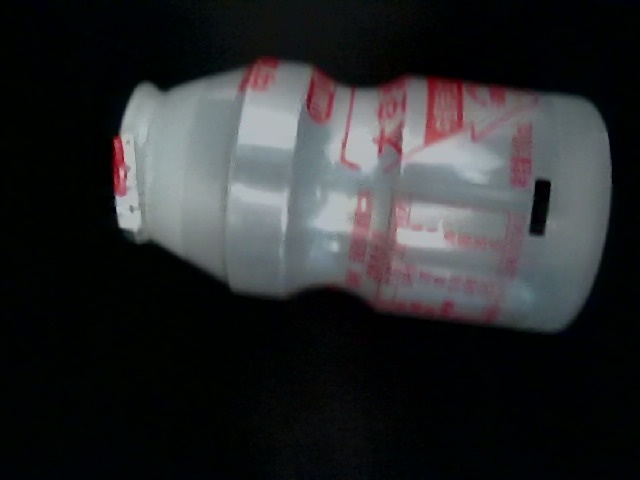CYLJ: (1, 1, 238, 377)
